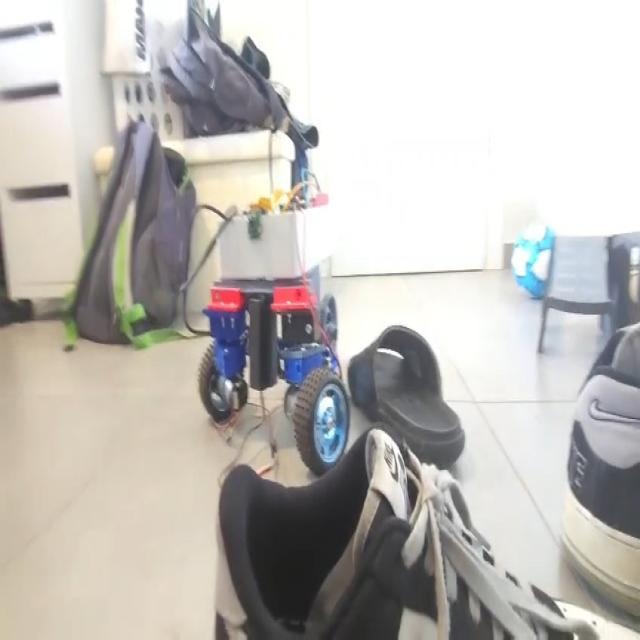Robot: (198, 165, 353, 476)
